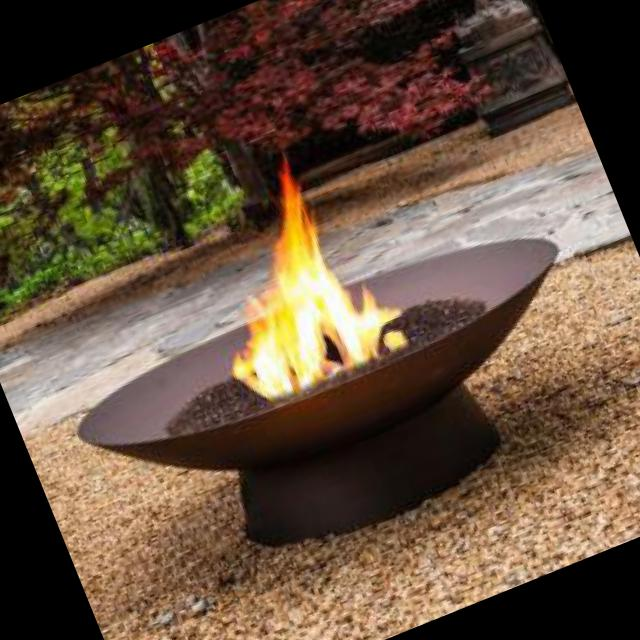fire: (164, 122, 428, 418)
